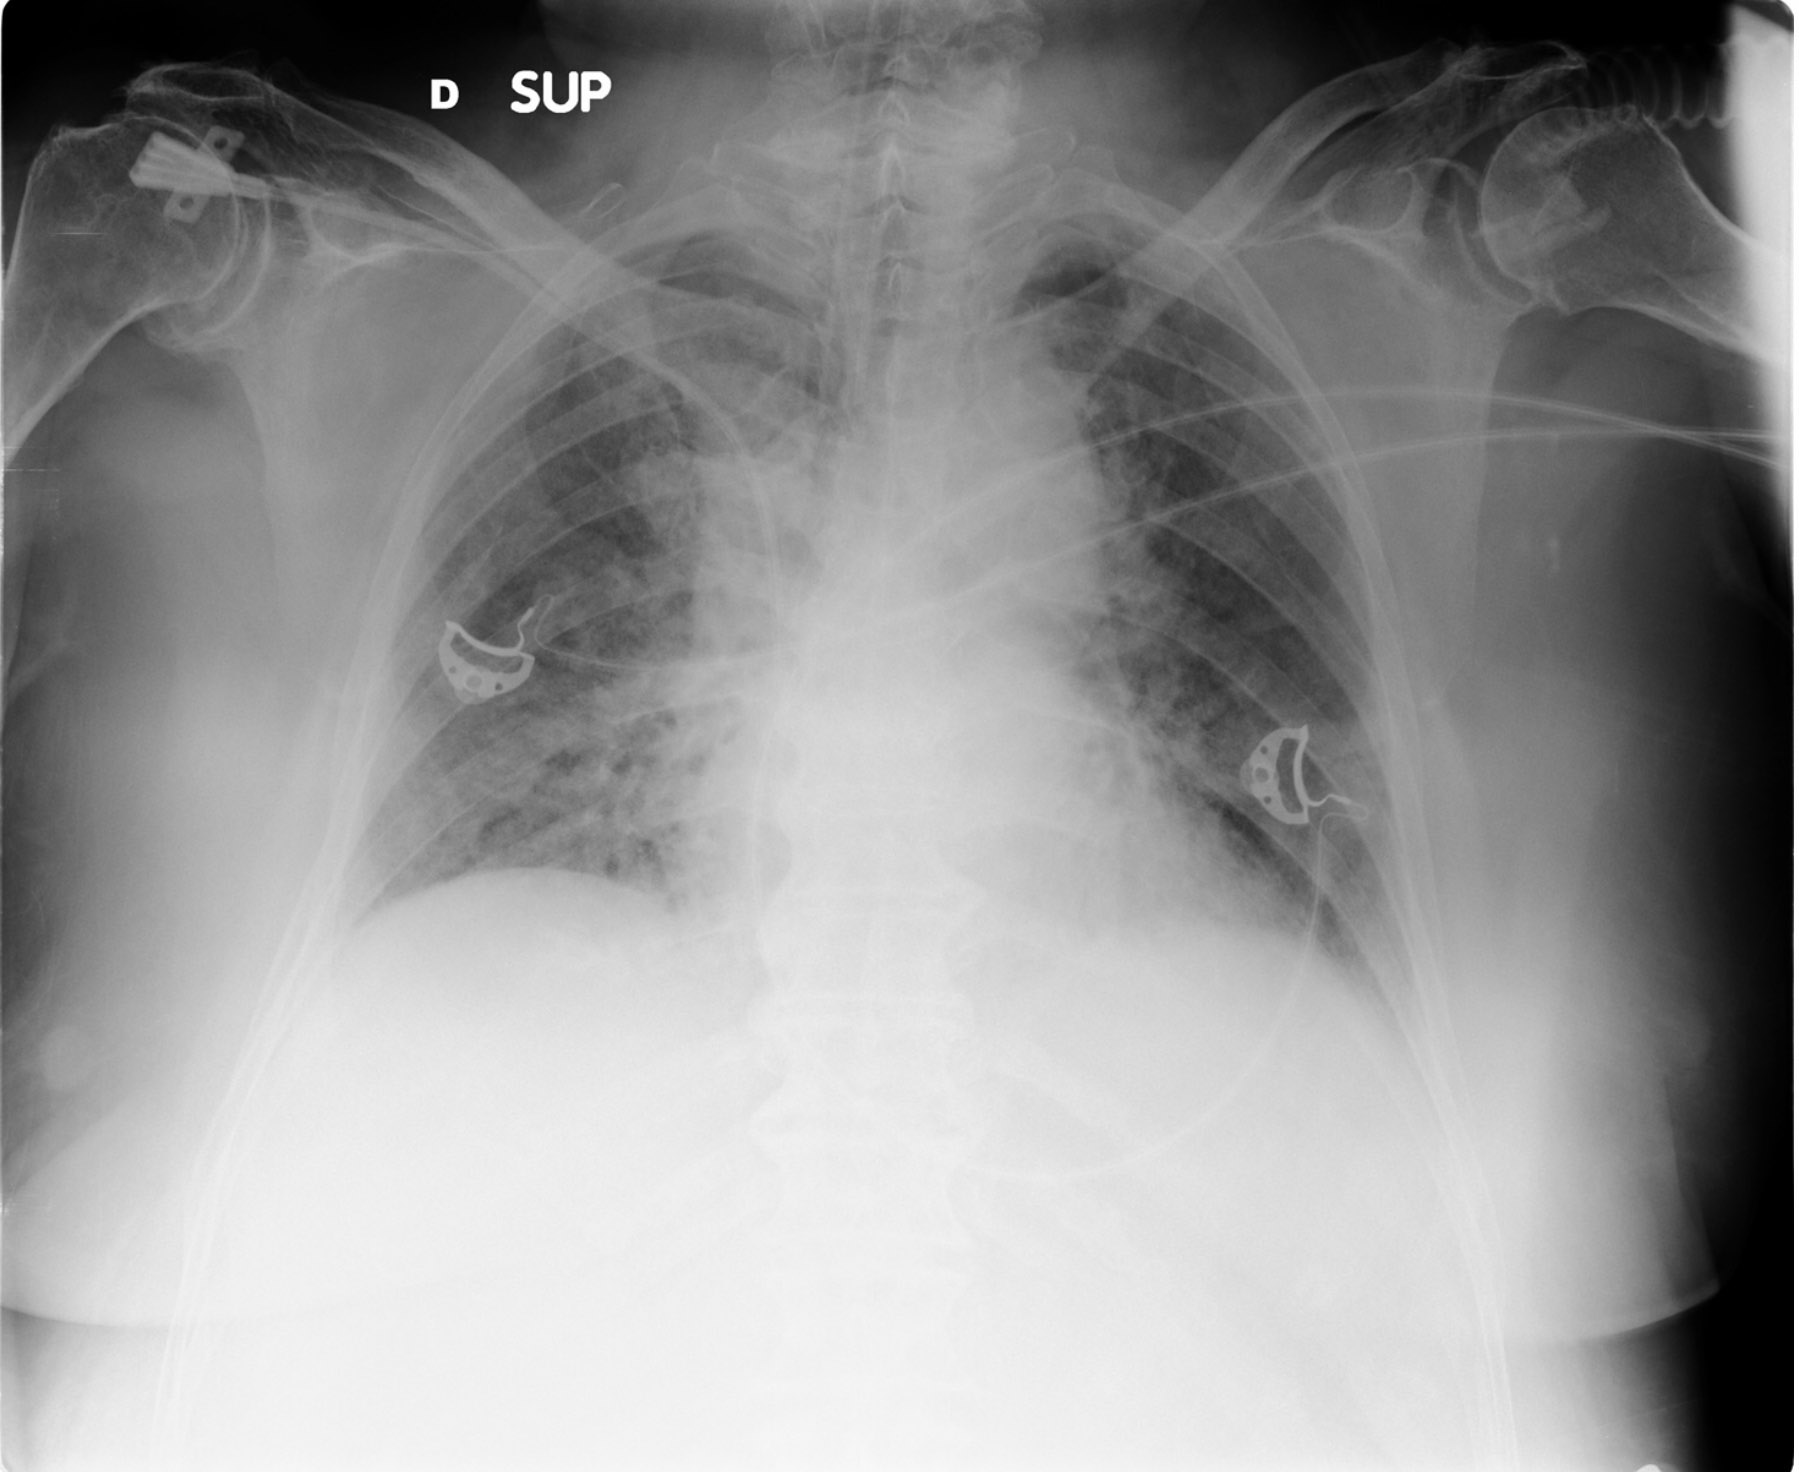Severe: (359, 199, 820, 927), (1009, 235, 1406, 998)
